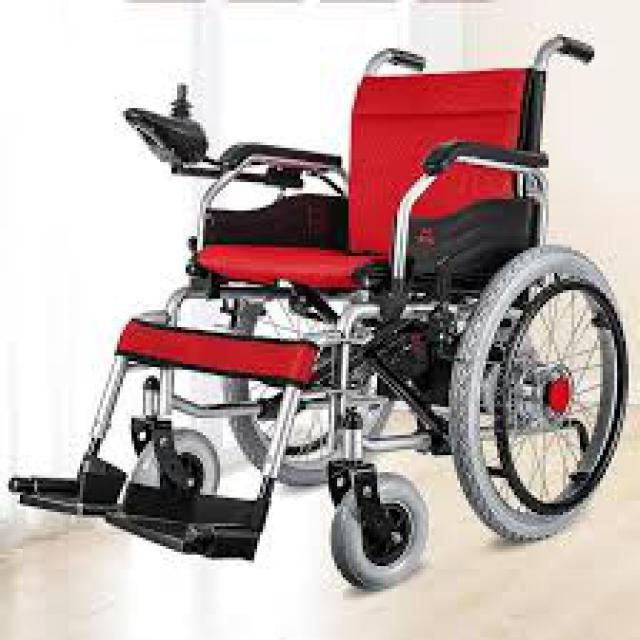wheelchair: (6, 20, 628, 589)
